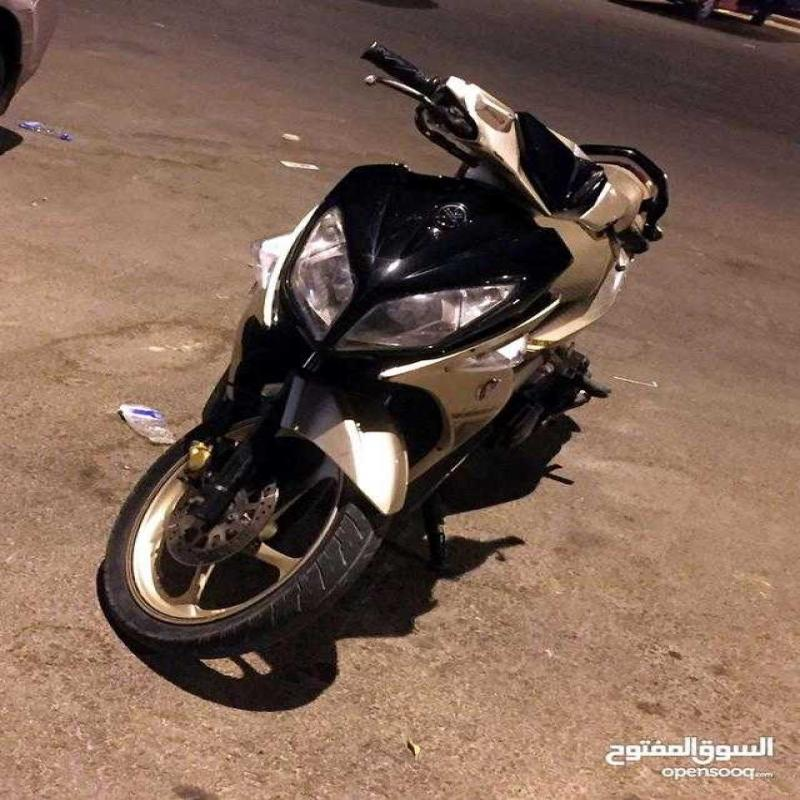bike: (108, 21, 703, 703)
